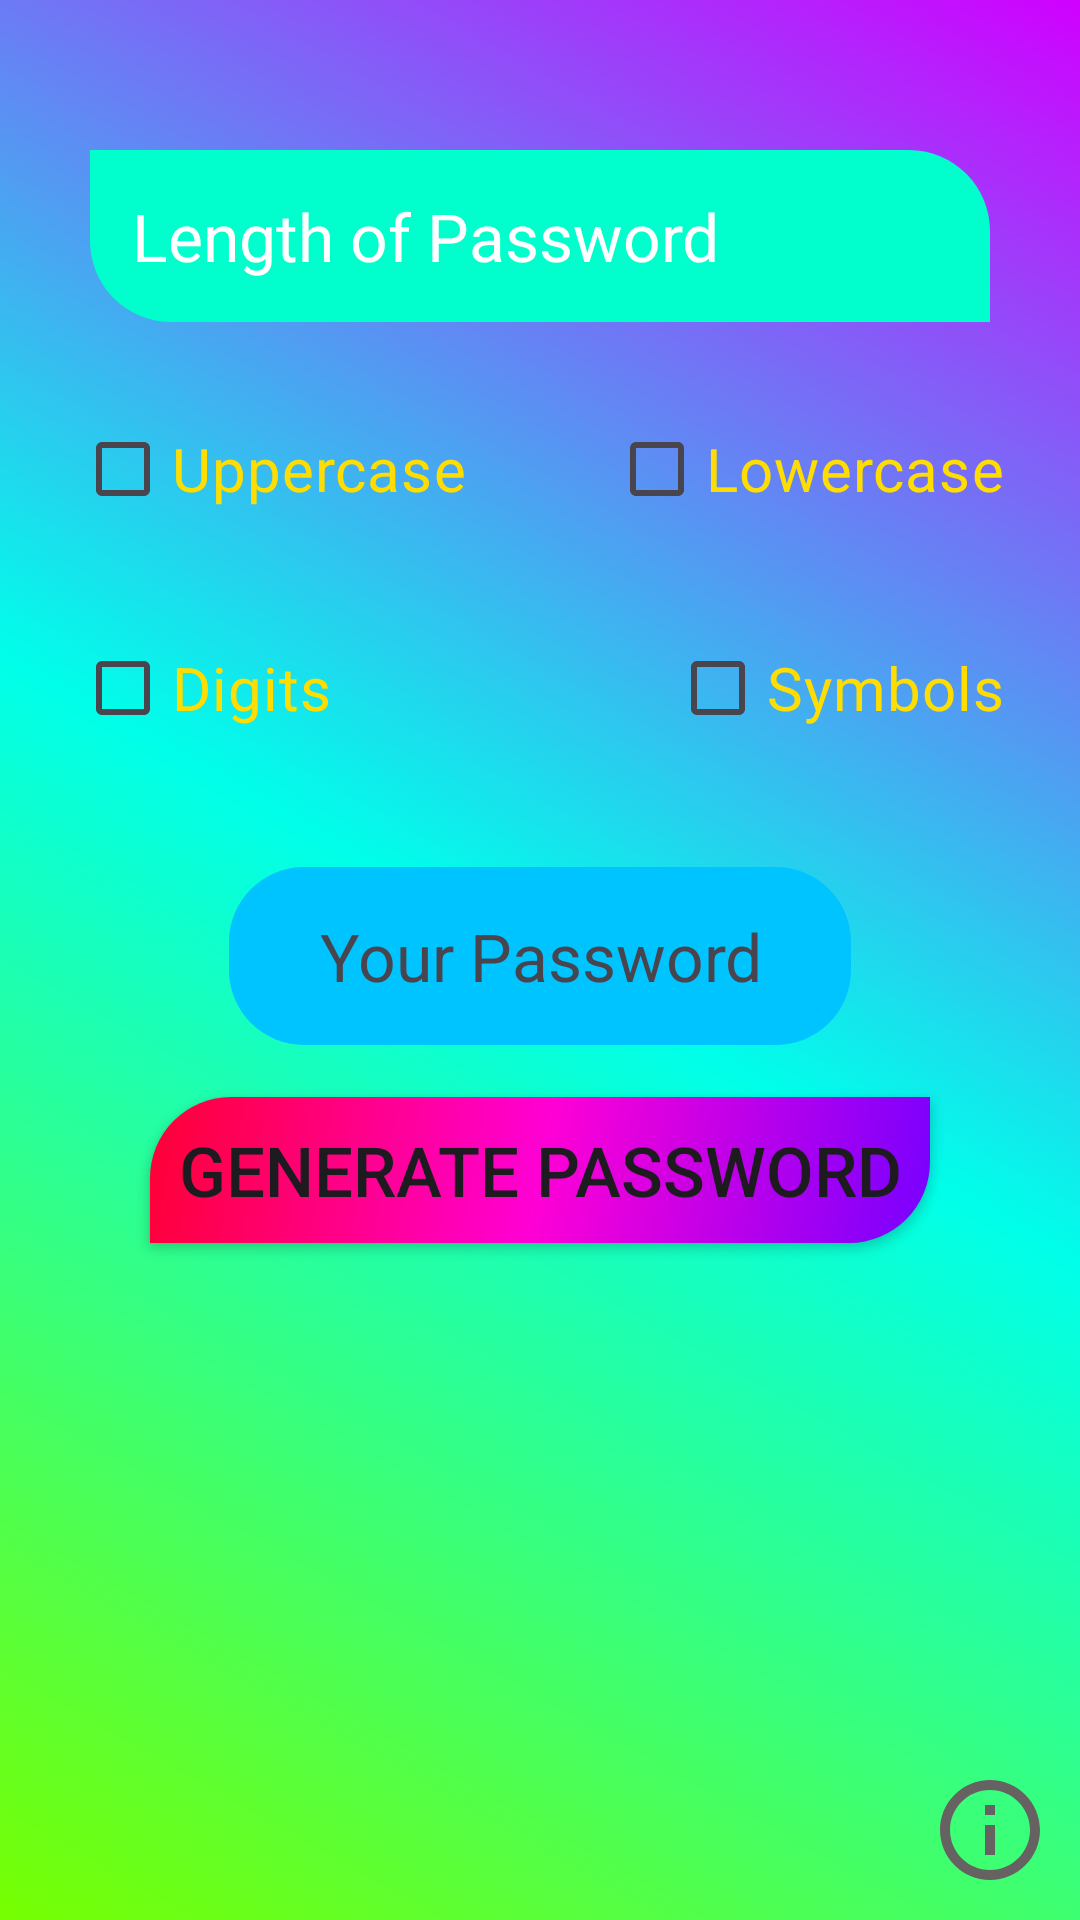

Where icons sit on this 1080 x 1920 app screen, as (x1, y1, x2, y2):
info: (930, 1776, 1050, 1890)
